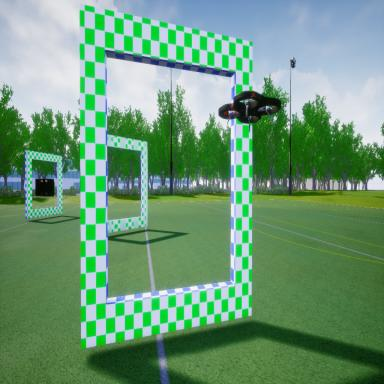gate: (77, 1, 252, 357), (24, 147, 64, 219)
